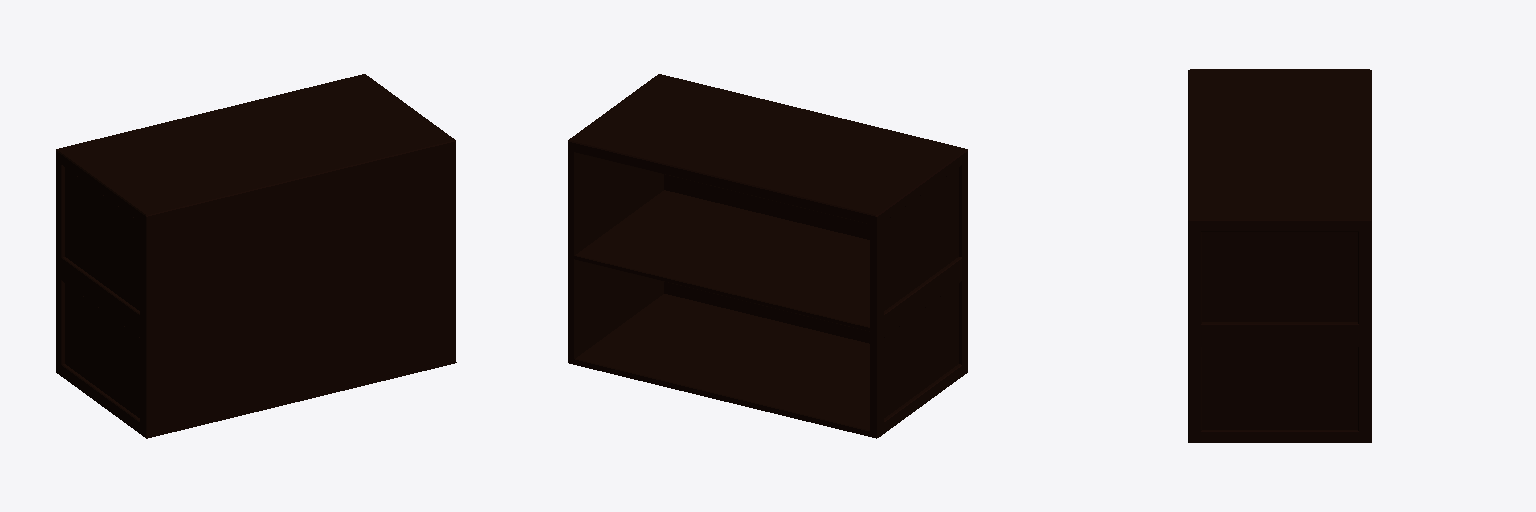
The model's file is SM_FileCabinetWide_001.obj.
3 renders of one model, left to right at view 1: azimuth 30°, elevation 25°; view 2: azimuth 150°, elevation 25°; view 3: azimuth 270°, elevation 25°, orthographic.
Parts seen in each view (by area): view 1: pCube113 group14 group33; view 2: pCube113 group14 group33; view 3: pCube113 group14 group33.
Boxes of the visible parts, x1=… form: pCube113 group14 group33: x1=56, y1=74, x2=456, y2=438; pCube113 group14 group33: x1=568, y1=74, x2=967, y2=438; pCube113 group14 group33: x1=1188, y1=69, x2=1371, y2=442.
Size of the model in its own units: 137 by 94.03 by 70.